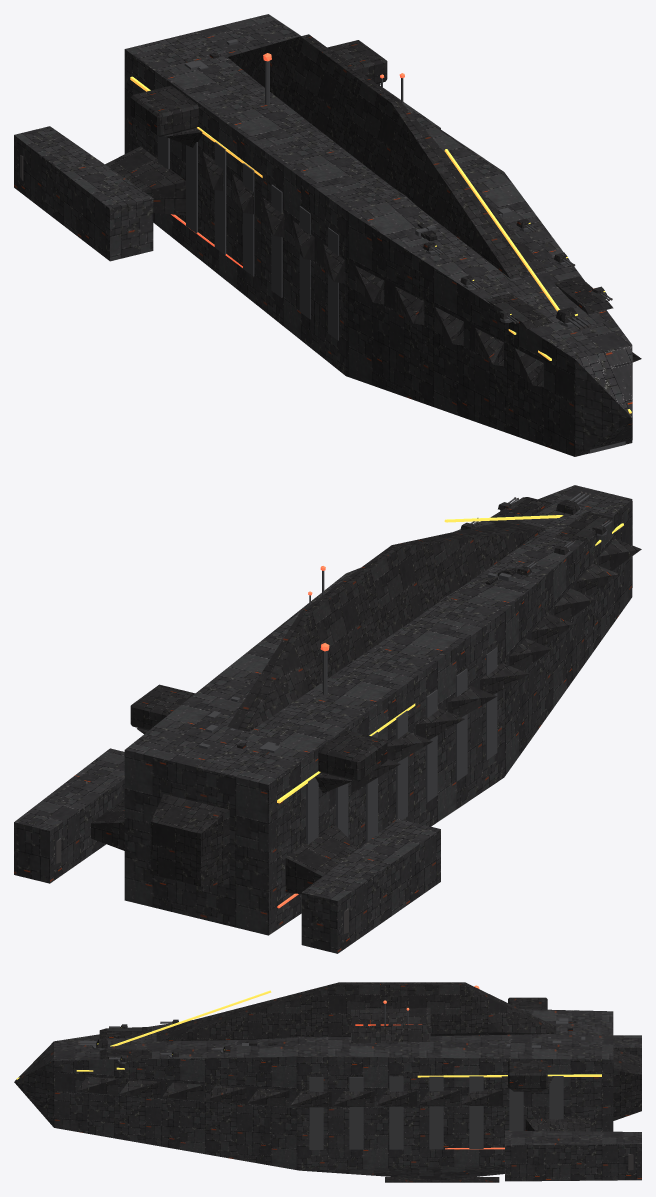
File: dreadnought.glb
3 views of the same model, one above another, from view 1: azimuth 30°, elevation 25°; view 2: azimuth 150°, elevation 25°; view 3: azimuth 270°, elevation 25° (orthographic). The views are drawn at different scales.
Visible parts, largest first — view 1: dreadnought; view 2: dreadnought; view 3: dreadnought.
Part boxes in pixels (<box>): dreadnought: <box>14,14,641,456</box>; dreadnought: <box>14,485,641,953</box>; dreadnought: <box>14,982,641,1182</box>.
Bounding box in the file's own units: 46 × 38 × 110.
Materials: 8 (2 with a texture image).
